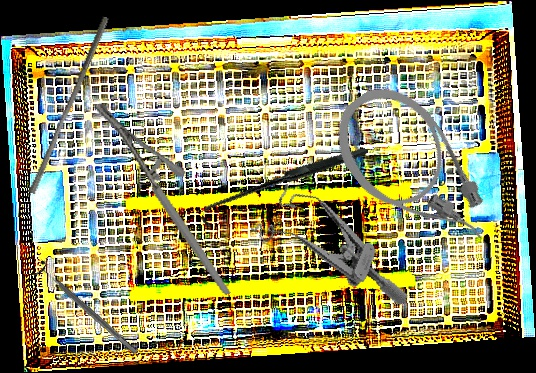Cannula: (317, 69, 508, 277)
Fixation Ring: (30, 258, 143, 361)
Hook Surgical: (199, 103, 369, 270)
Needle Holder: (93, 82, 231, 316)
Pusher: (27, 13, 110, 197)
Speculum: (242, 177, 432, 307)
